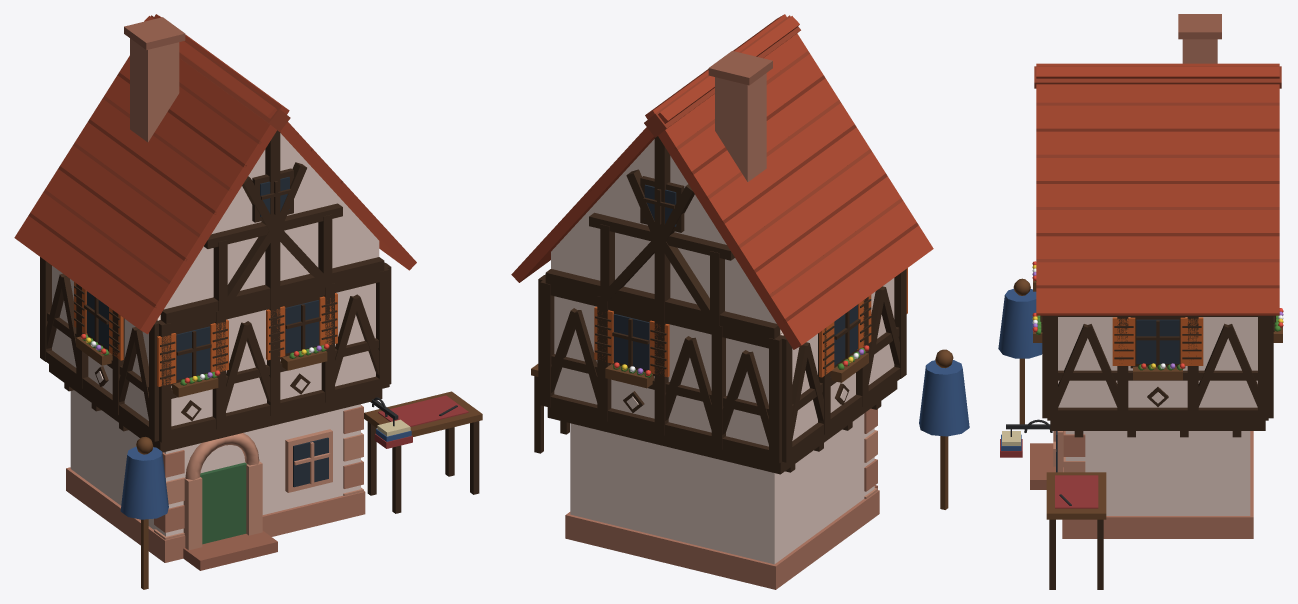
Rendered from schneider.glb.
3 views of the same model, side by side, from view 1: azimuth 30°, elevation 25°; view 2: azimuth 150°, elevation 25°; view 3: azimuth 270°, elevation 25° (orthographic). The views are drawn at different scales.
Bounding box in the file's own units: 3.81 × 4.58 × 2.63.
